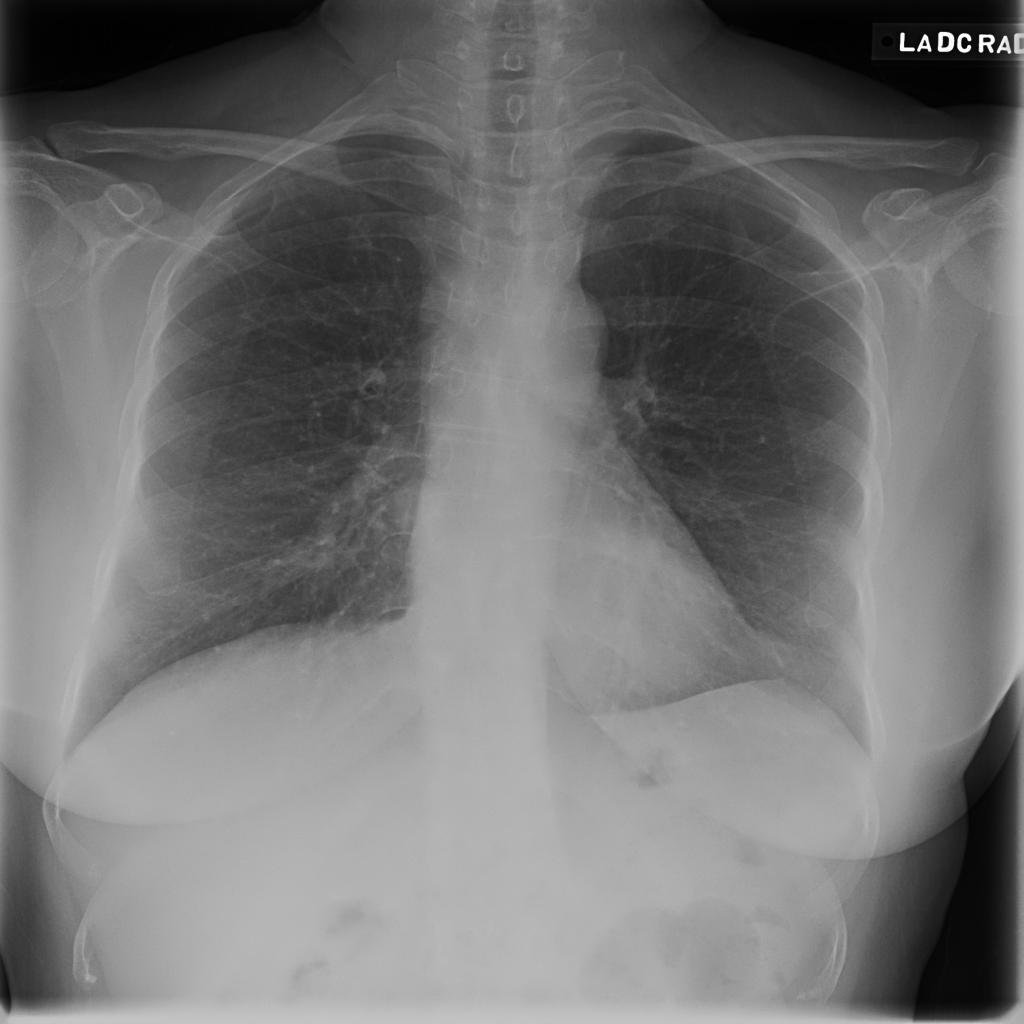Nodule: (216, 242, 256, 272)
